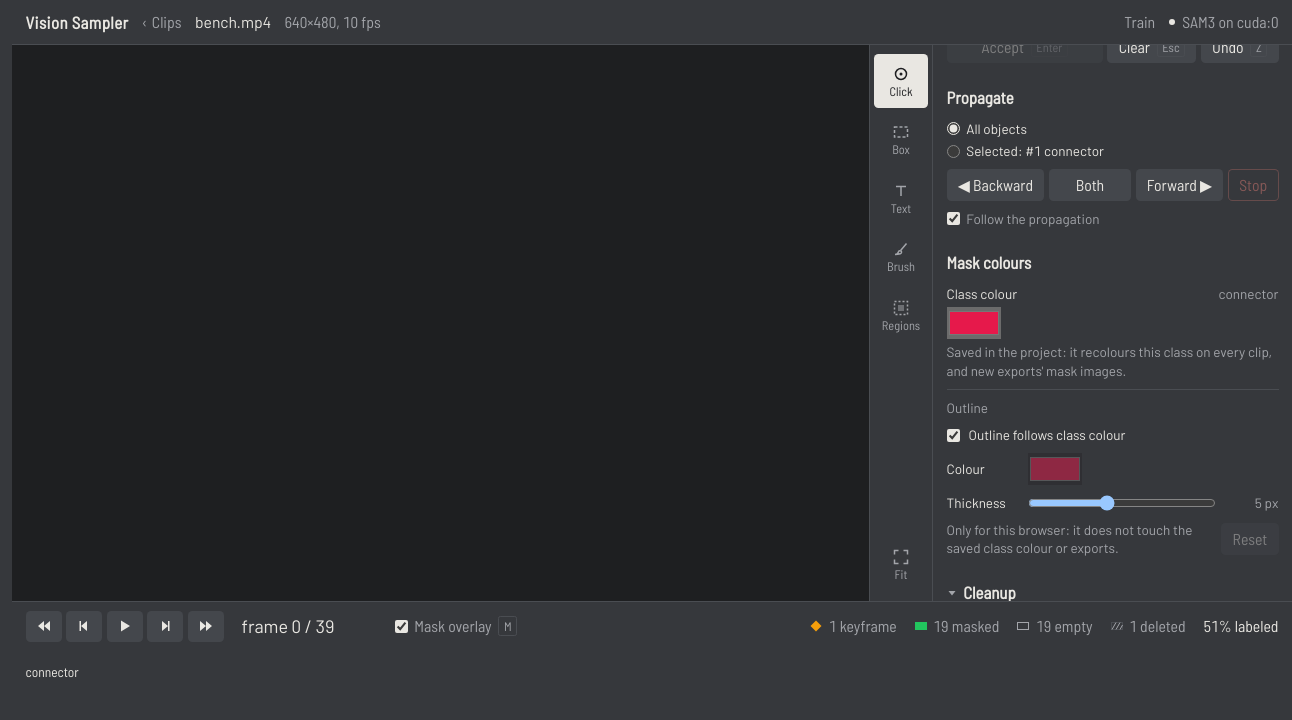
Label page (viewer) › shows a class colour save error the way the page already shows errors
(page scrolled)
Expected: the heading "bench.mp4" is shown, left=195, top=11, right=271, bottom=33
Type "#123456" into the colour field named "Class colour" at (974,323), box left=946, top=307, right=1000, bottom=338
Wait 300 ms
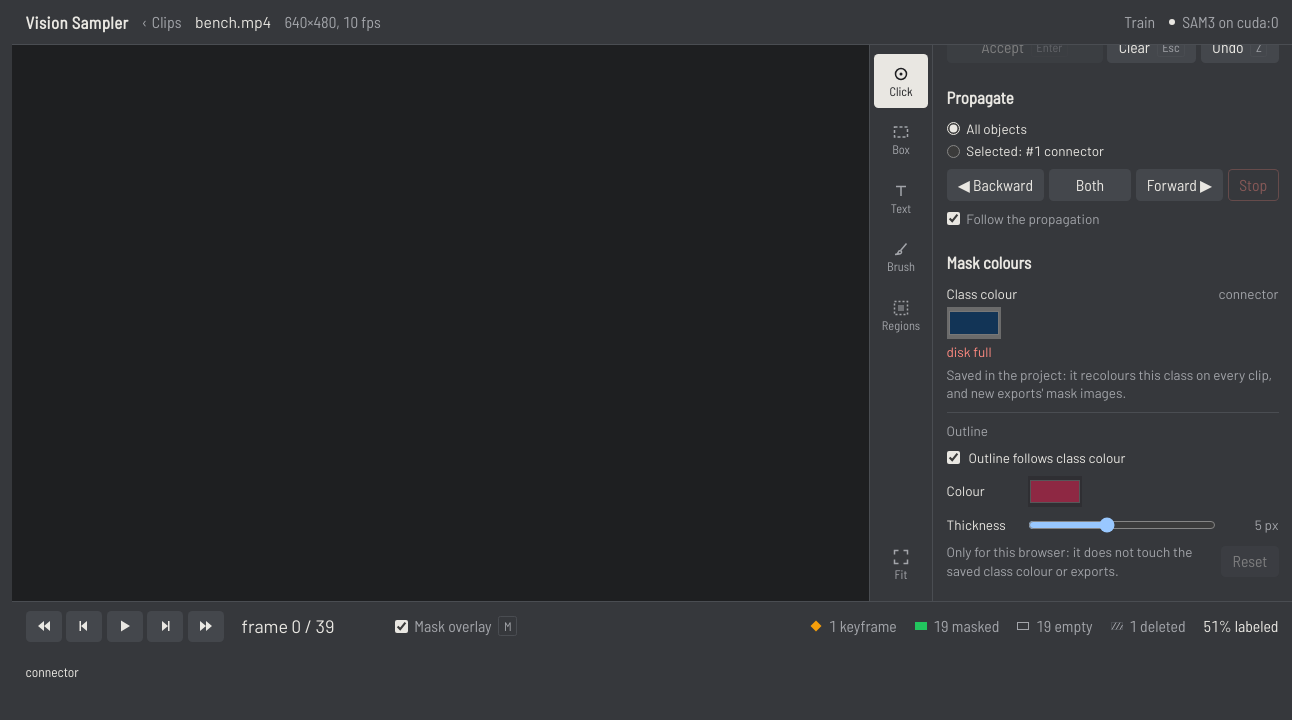
Expected: the text "disk full" is shown, left=946, top=343, right=992, bottom=360
